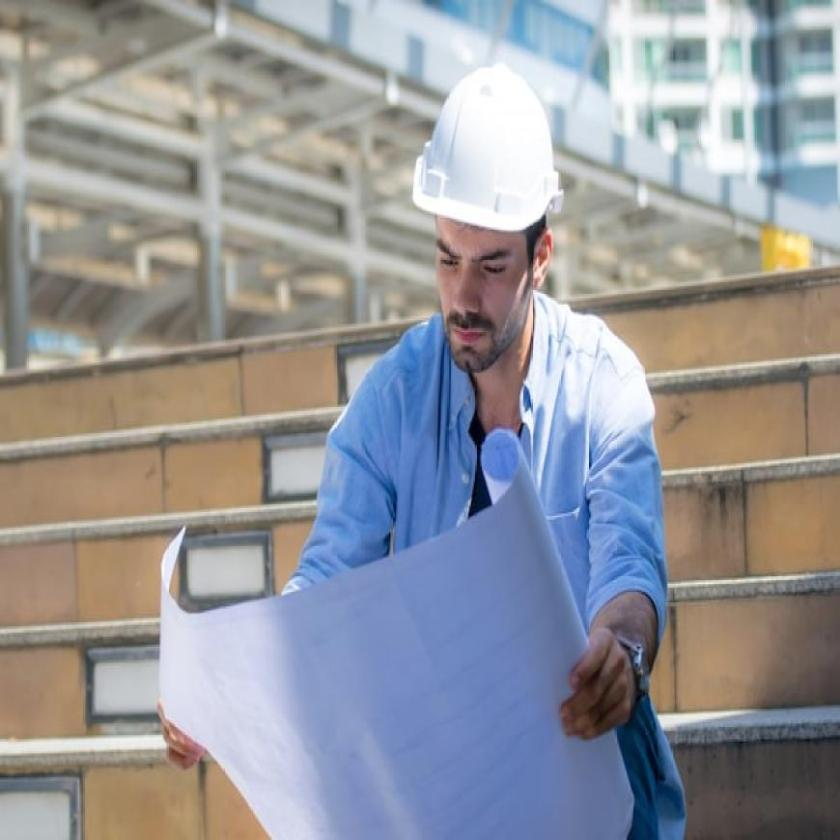Con_casco: (401, 59, 575, 380)
